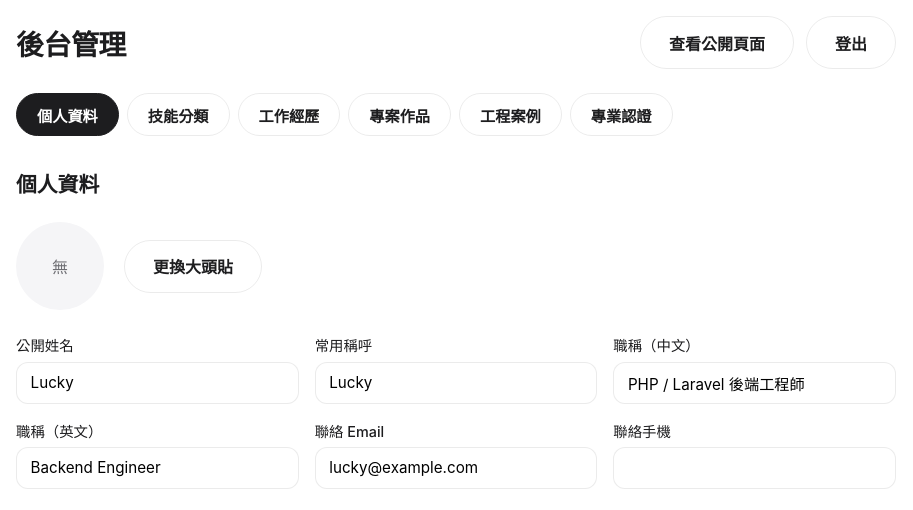
Test: AdminDashboardView › shows the engineering cases and certifications tabs and switches between them
Click the button with class "admin__tab" showing "工程案例" at coordinates (510, 115), box [459, 93, 562, 136]
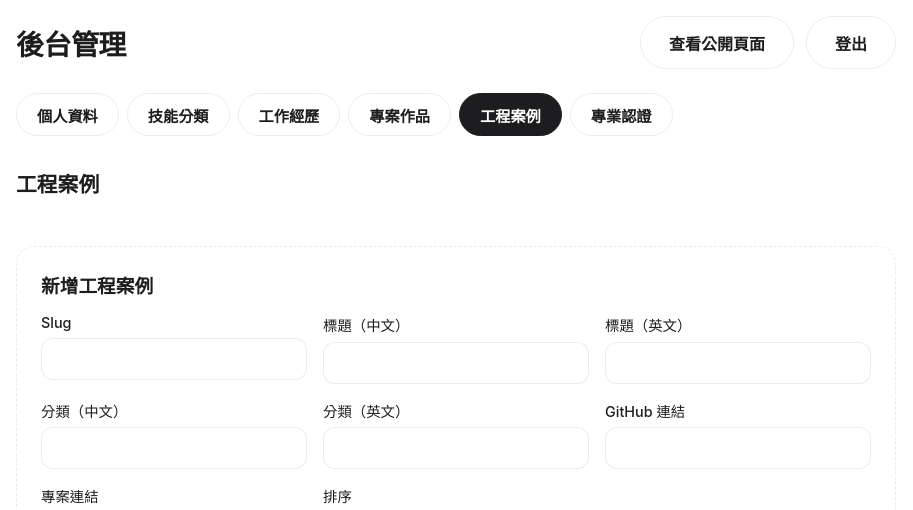
Now the text "新增工程案例" is shown, box [41, 275, 153, 298]
Click the button with class "admin__tab" showing "專業認證" at coordinates (621, 115), box [570, 93, 673, 136]
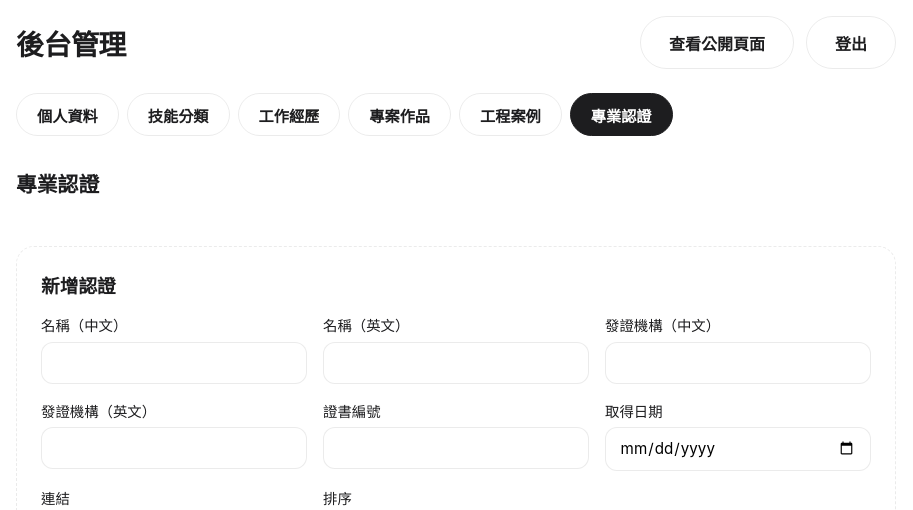
Now the text "新增認證" is shown, box [41, 275, 116, 298]
